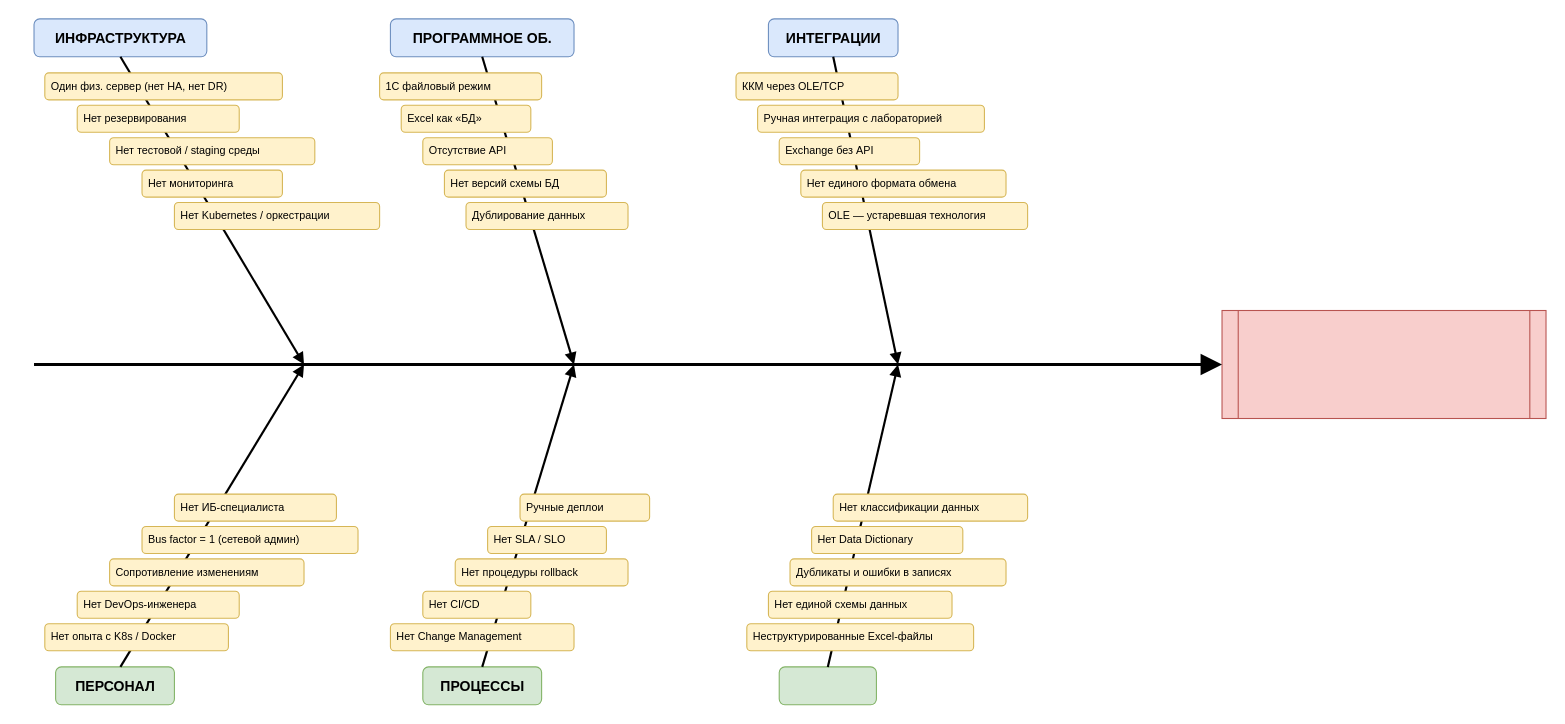
This 1565x724 diagram has some shape labels left out. The centre of each missing label's shape, as x and y in pixels:
"ДАННЫЕ" belongs at (x=827, y=685).
"СНИЖЕНИЕ ПРОИЗВОДИТЕЛЬНОСТИ И РИСК ПОТЕРИ ДАННЫХ ПРИ МИГРАЦИИ" belongs at (x=1383, y=363).
